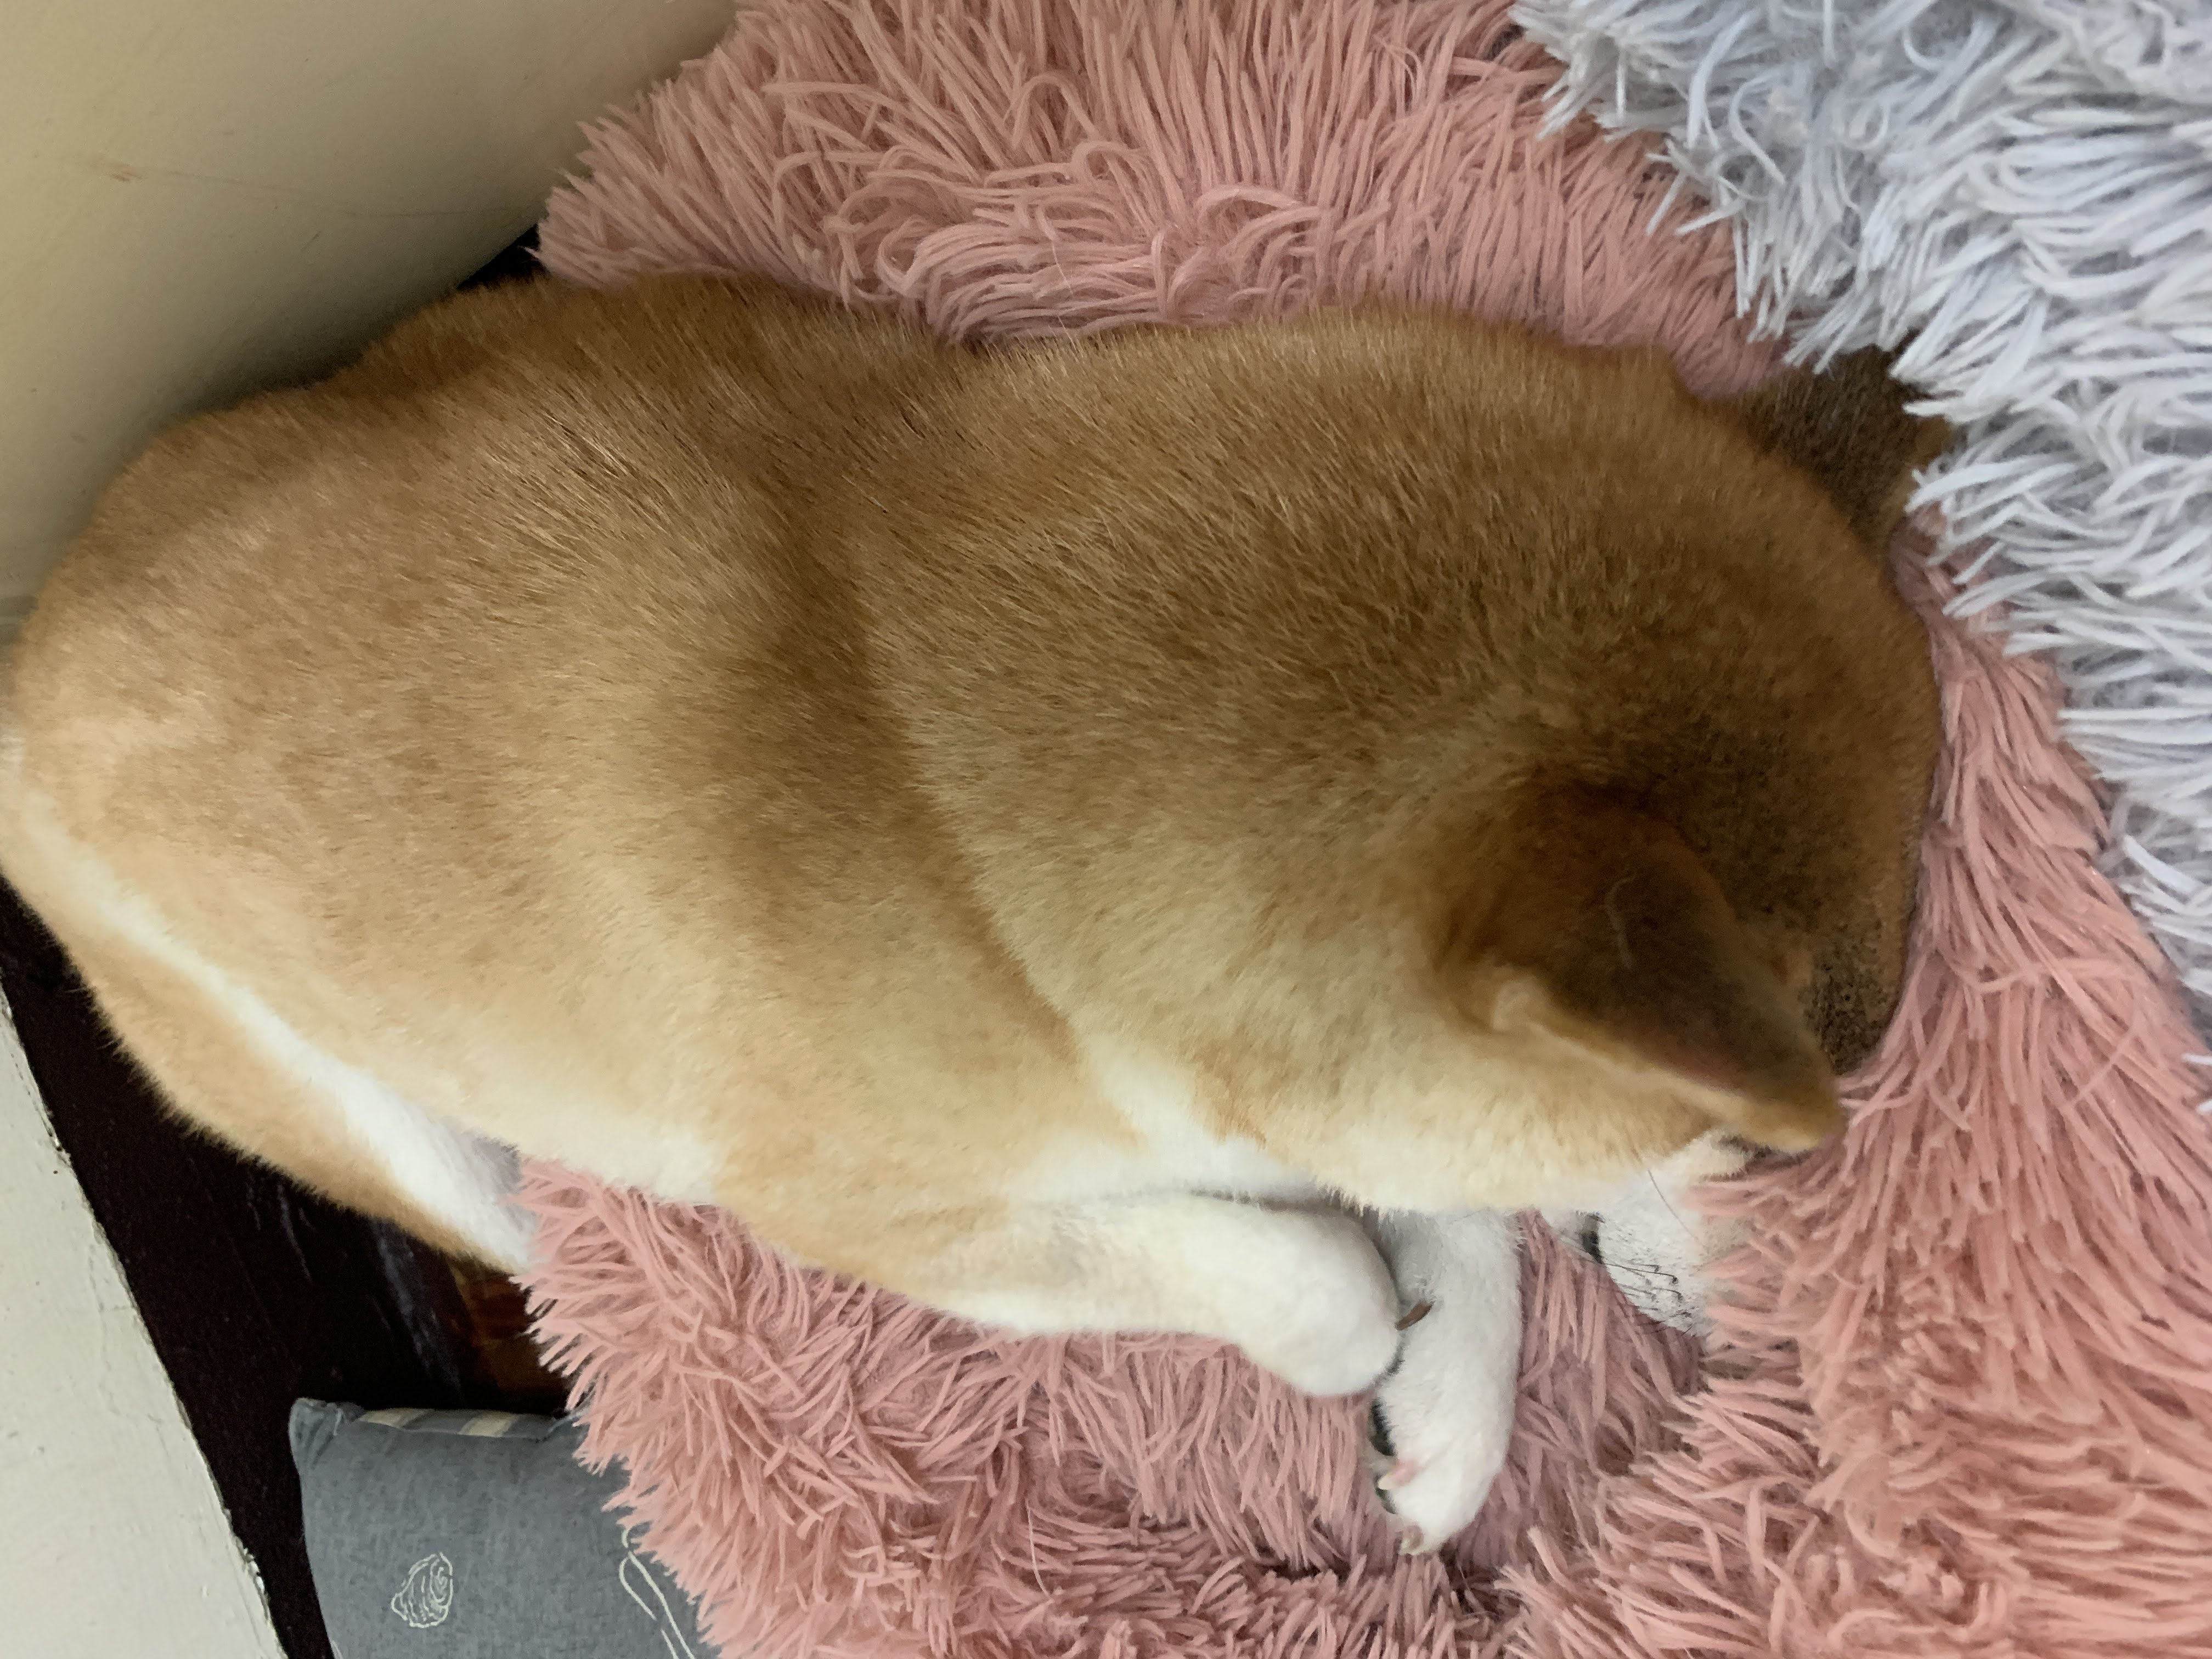Get down: (7, 293, 2043, 1532)
